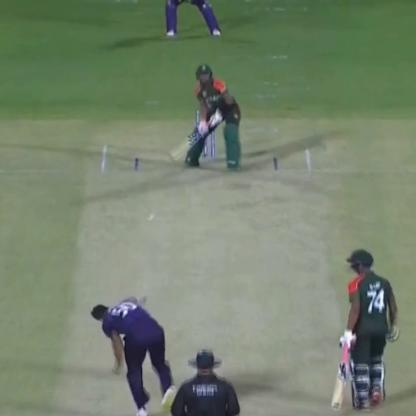ball: (142, 212, 156, 224)
bat: (326, 330, 353, 416), (170, 119, 212, 160)
pitch: (67, 143, 352, 415)
